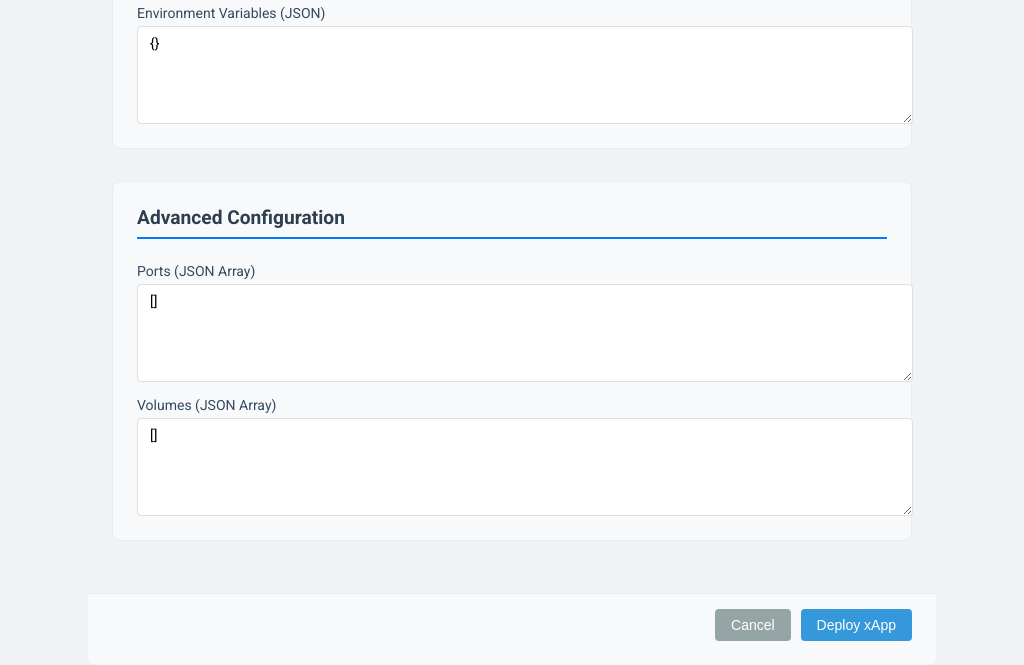
XAppDeploymentForm › validates required fields
The image size is (1024, 665).
(page scrolled)
Try to submit without filling required fields
What coordinates should you click on to do the following:
click the button "Deploy xApp"
I would click on:
 (856, 625)
Its box is [801,609,912,641].
(page scrolled)
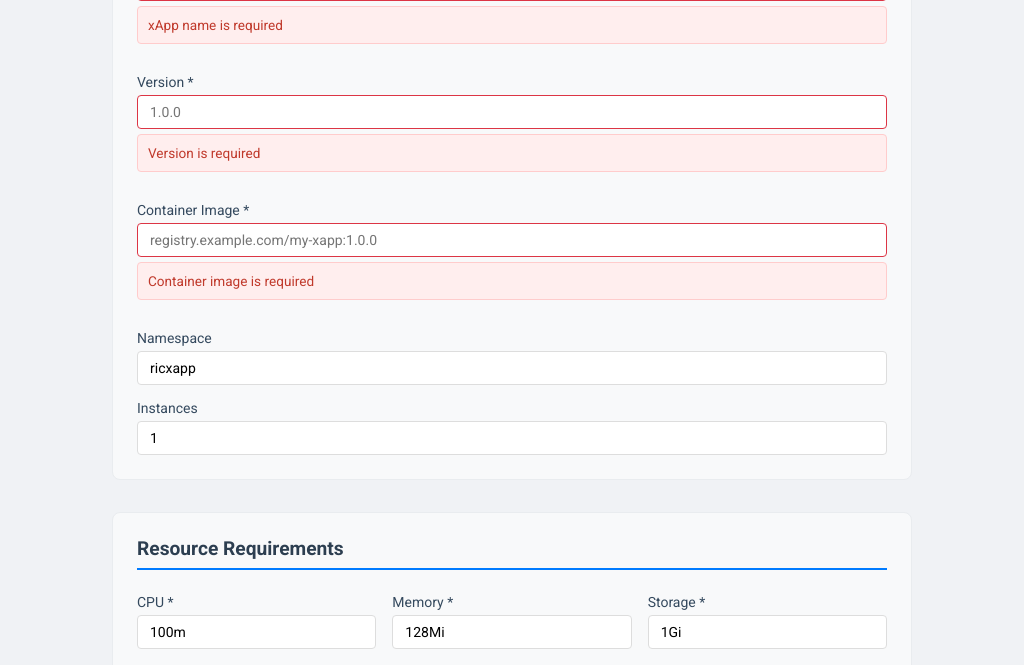
Expected: the text "xApp name is required" is shown, [137,6,887,44]
Expected: the text "Version is required" is shown, [137,134,887,172]
Expected: the text "Container image is required" is shown, [137,262,887,300]
